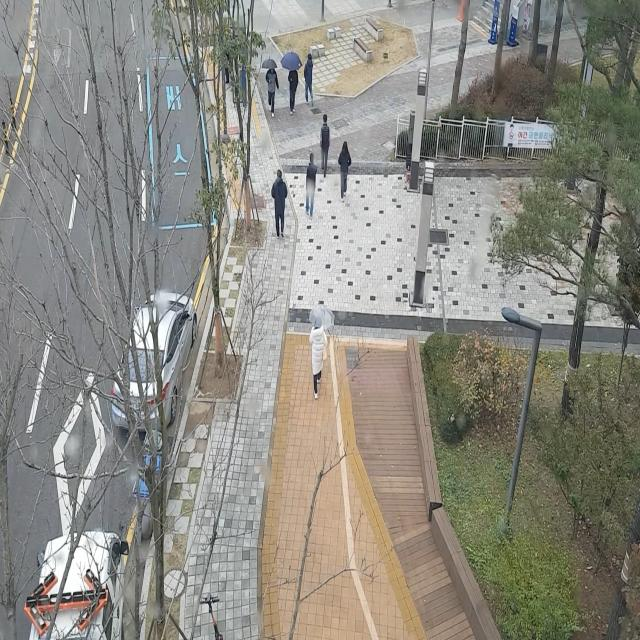Car: (95, 267, 209, 450)
Truck: (11, 510, 133, 640)
